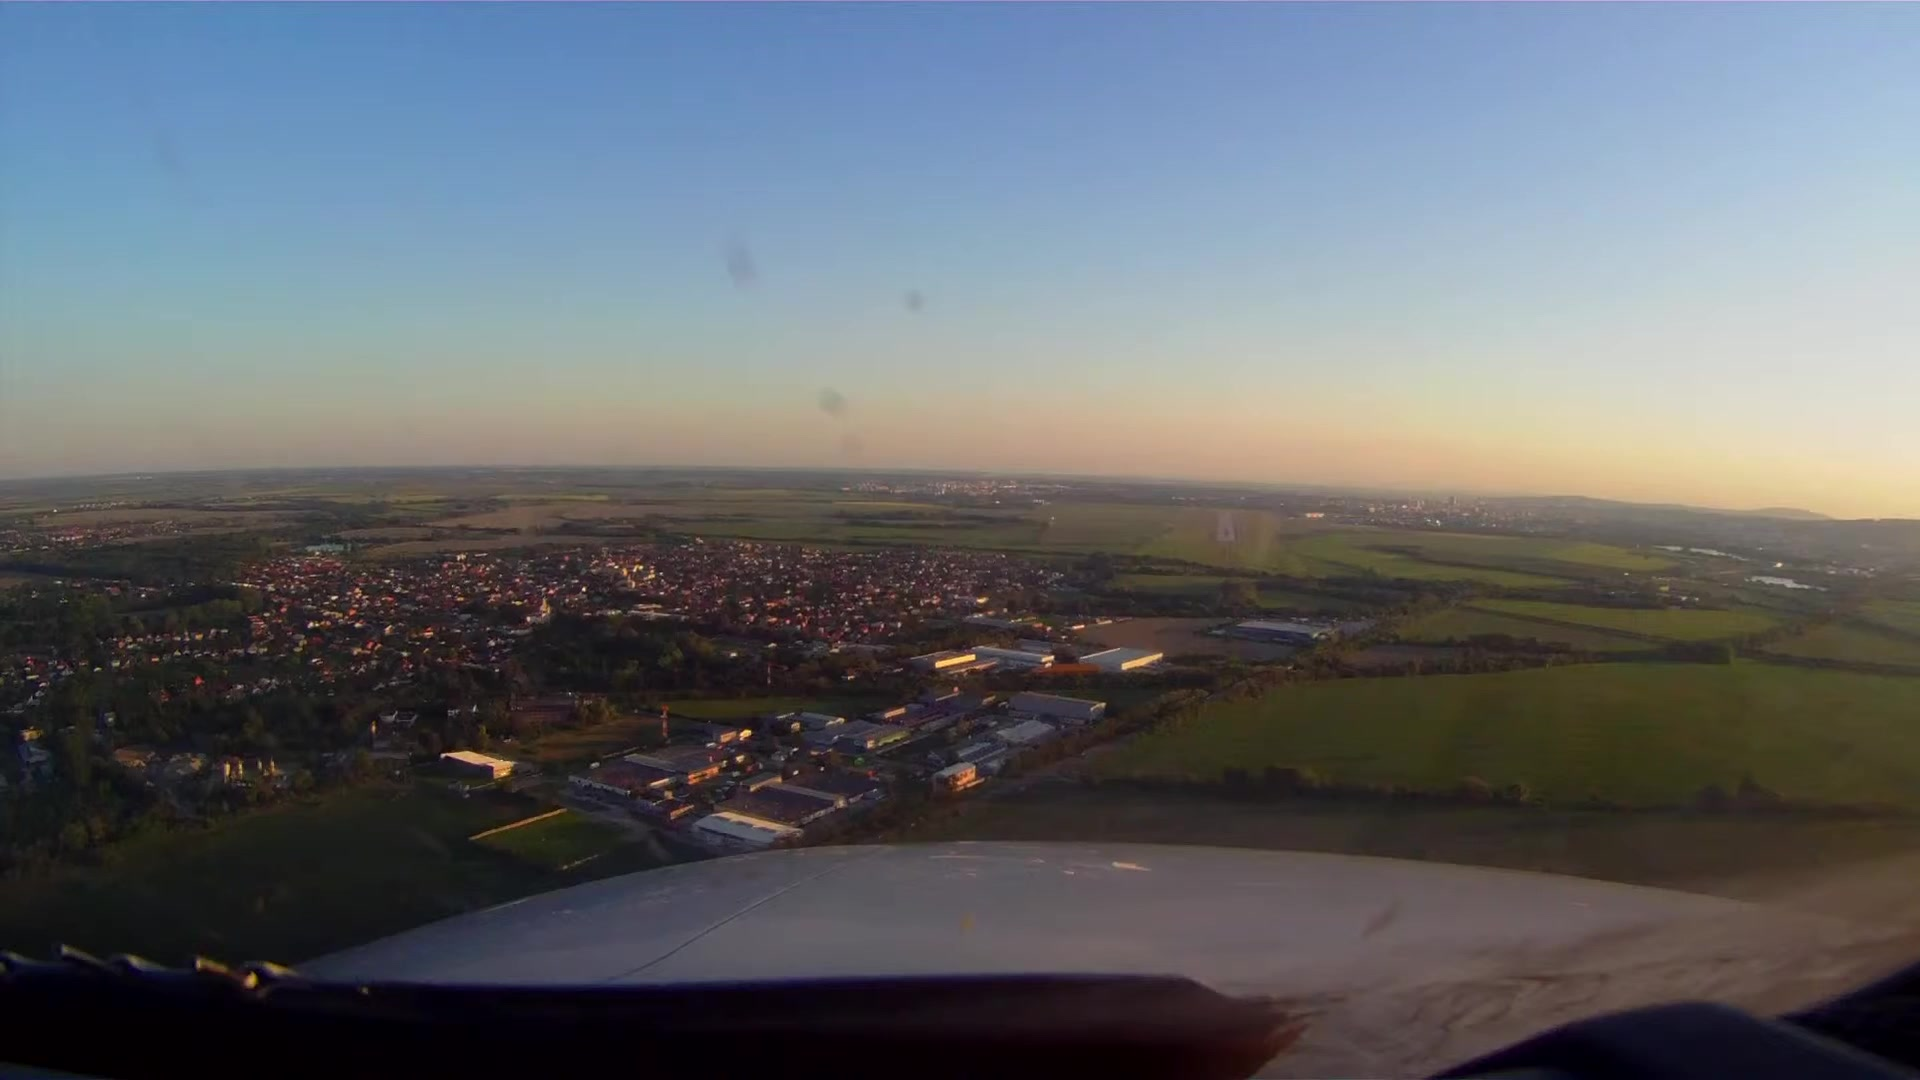runway: (1212, 506, 1236, 545)
